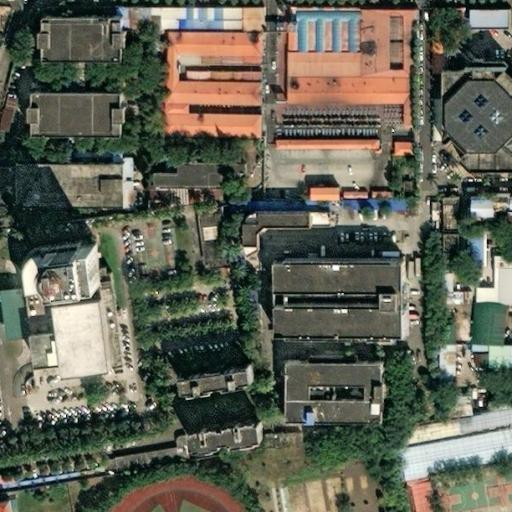building: (279, 10, 410, 128), (161, 32, 255, 139), (435, 69, 512, 174), (15, 245, 101, 334), (392, 426, 512, 484), (289, 368, 386, 432), (107, 469, 247, 512), (14, 167, 124, 214), (55, 291, 111, 370), (276, 312, 406, 346), (275, 269, 409, 299), (28, 96, 120, 139), (31, 18, 116, 57), (108, 9, 236, 33), (140, 180, 218, 212), (178, 420, 251, 451), (171, 366, 242, 396), (65, 240, 110, 285), (188, 210, 220, 270), (423, 50, 442, 143), (448, 408, 512, 434), (436, 201, 452, 304), (22, 329, 63, 367), (106, 448, 177, 469), (465, 304, 500, 346), (172, 165, 245, 184), (458, 268, 491, 305), (398, 421, 451, 444), (223, 202, 323, 214), (269, 140, 370, 150), (398, 479, 428, 512), (241, 214, 260, 258), (260, 214, 309, 231), (490, 268, 512, 305), (450, 392, 480, 415), (466, 10, 501, 29), (480, 346, 505, 372), (429, 346, 445, 383), (0, 98, 15, 133), (499, 329, 512, 366), (236, 10, 256, 33), (467, 202, 493, 219), (304, 190, 335, 202), (64, 153, 104, 161), (387, 143, 411, 156), (465, 352, 480, 367), (309, 214, 322, 231), (201, 72, 223, 81), (26, 217, 44, 228), (463, 236, 474, 254), (390, 299, 405, 312), (234, 73, 255, 82), (181, 72, 201, 81), (276, 299, 289, 312), (55, 84, 69, 96), (157, 157, 167, 173), (364, 192, 384, 198), (466, 345, 481, 353), (335, 194, 360, 198), (487, 258, 497, 268), (107, 154, 116, 164), (116, 159, 124, 164)
